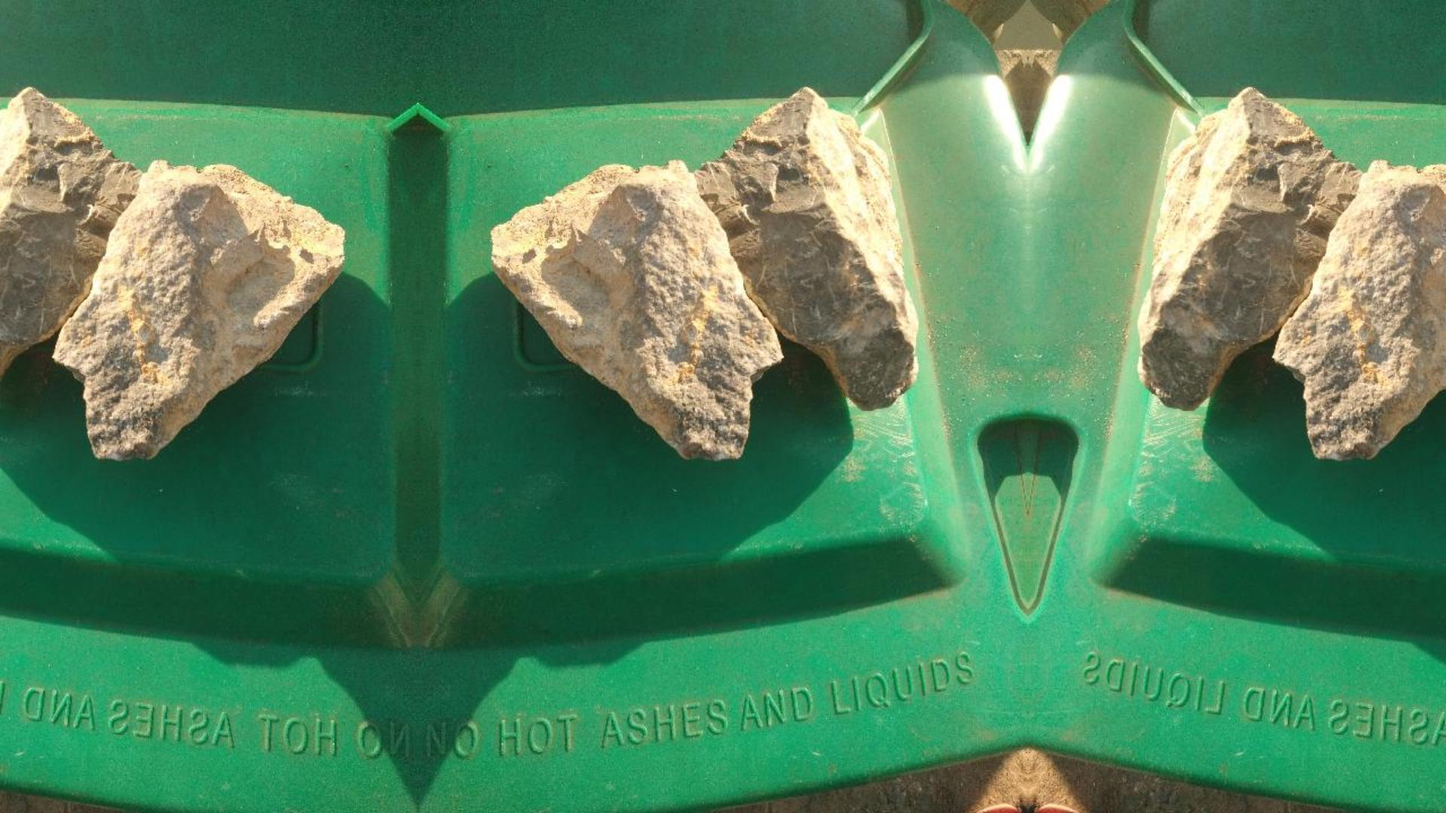rock: (54, 160, 343, 460), (491, 160, 781, 458), (1138, 87, 1360, 409), (696, 88, 916, 409), (1274, 160, 1445, 460), (0, 87, 140, 375)
